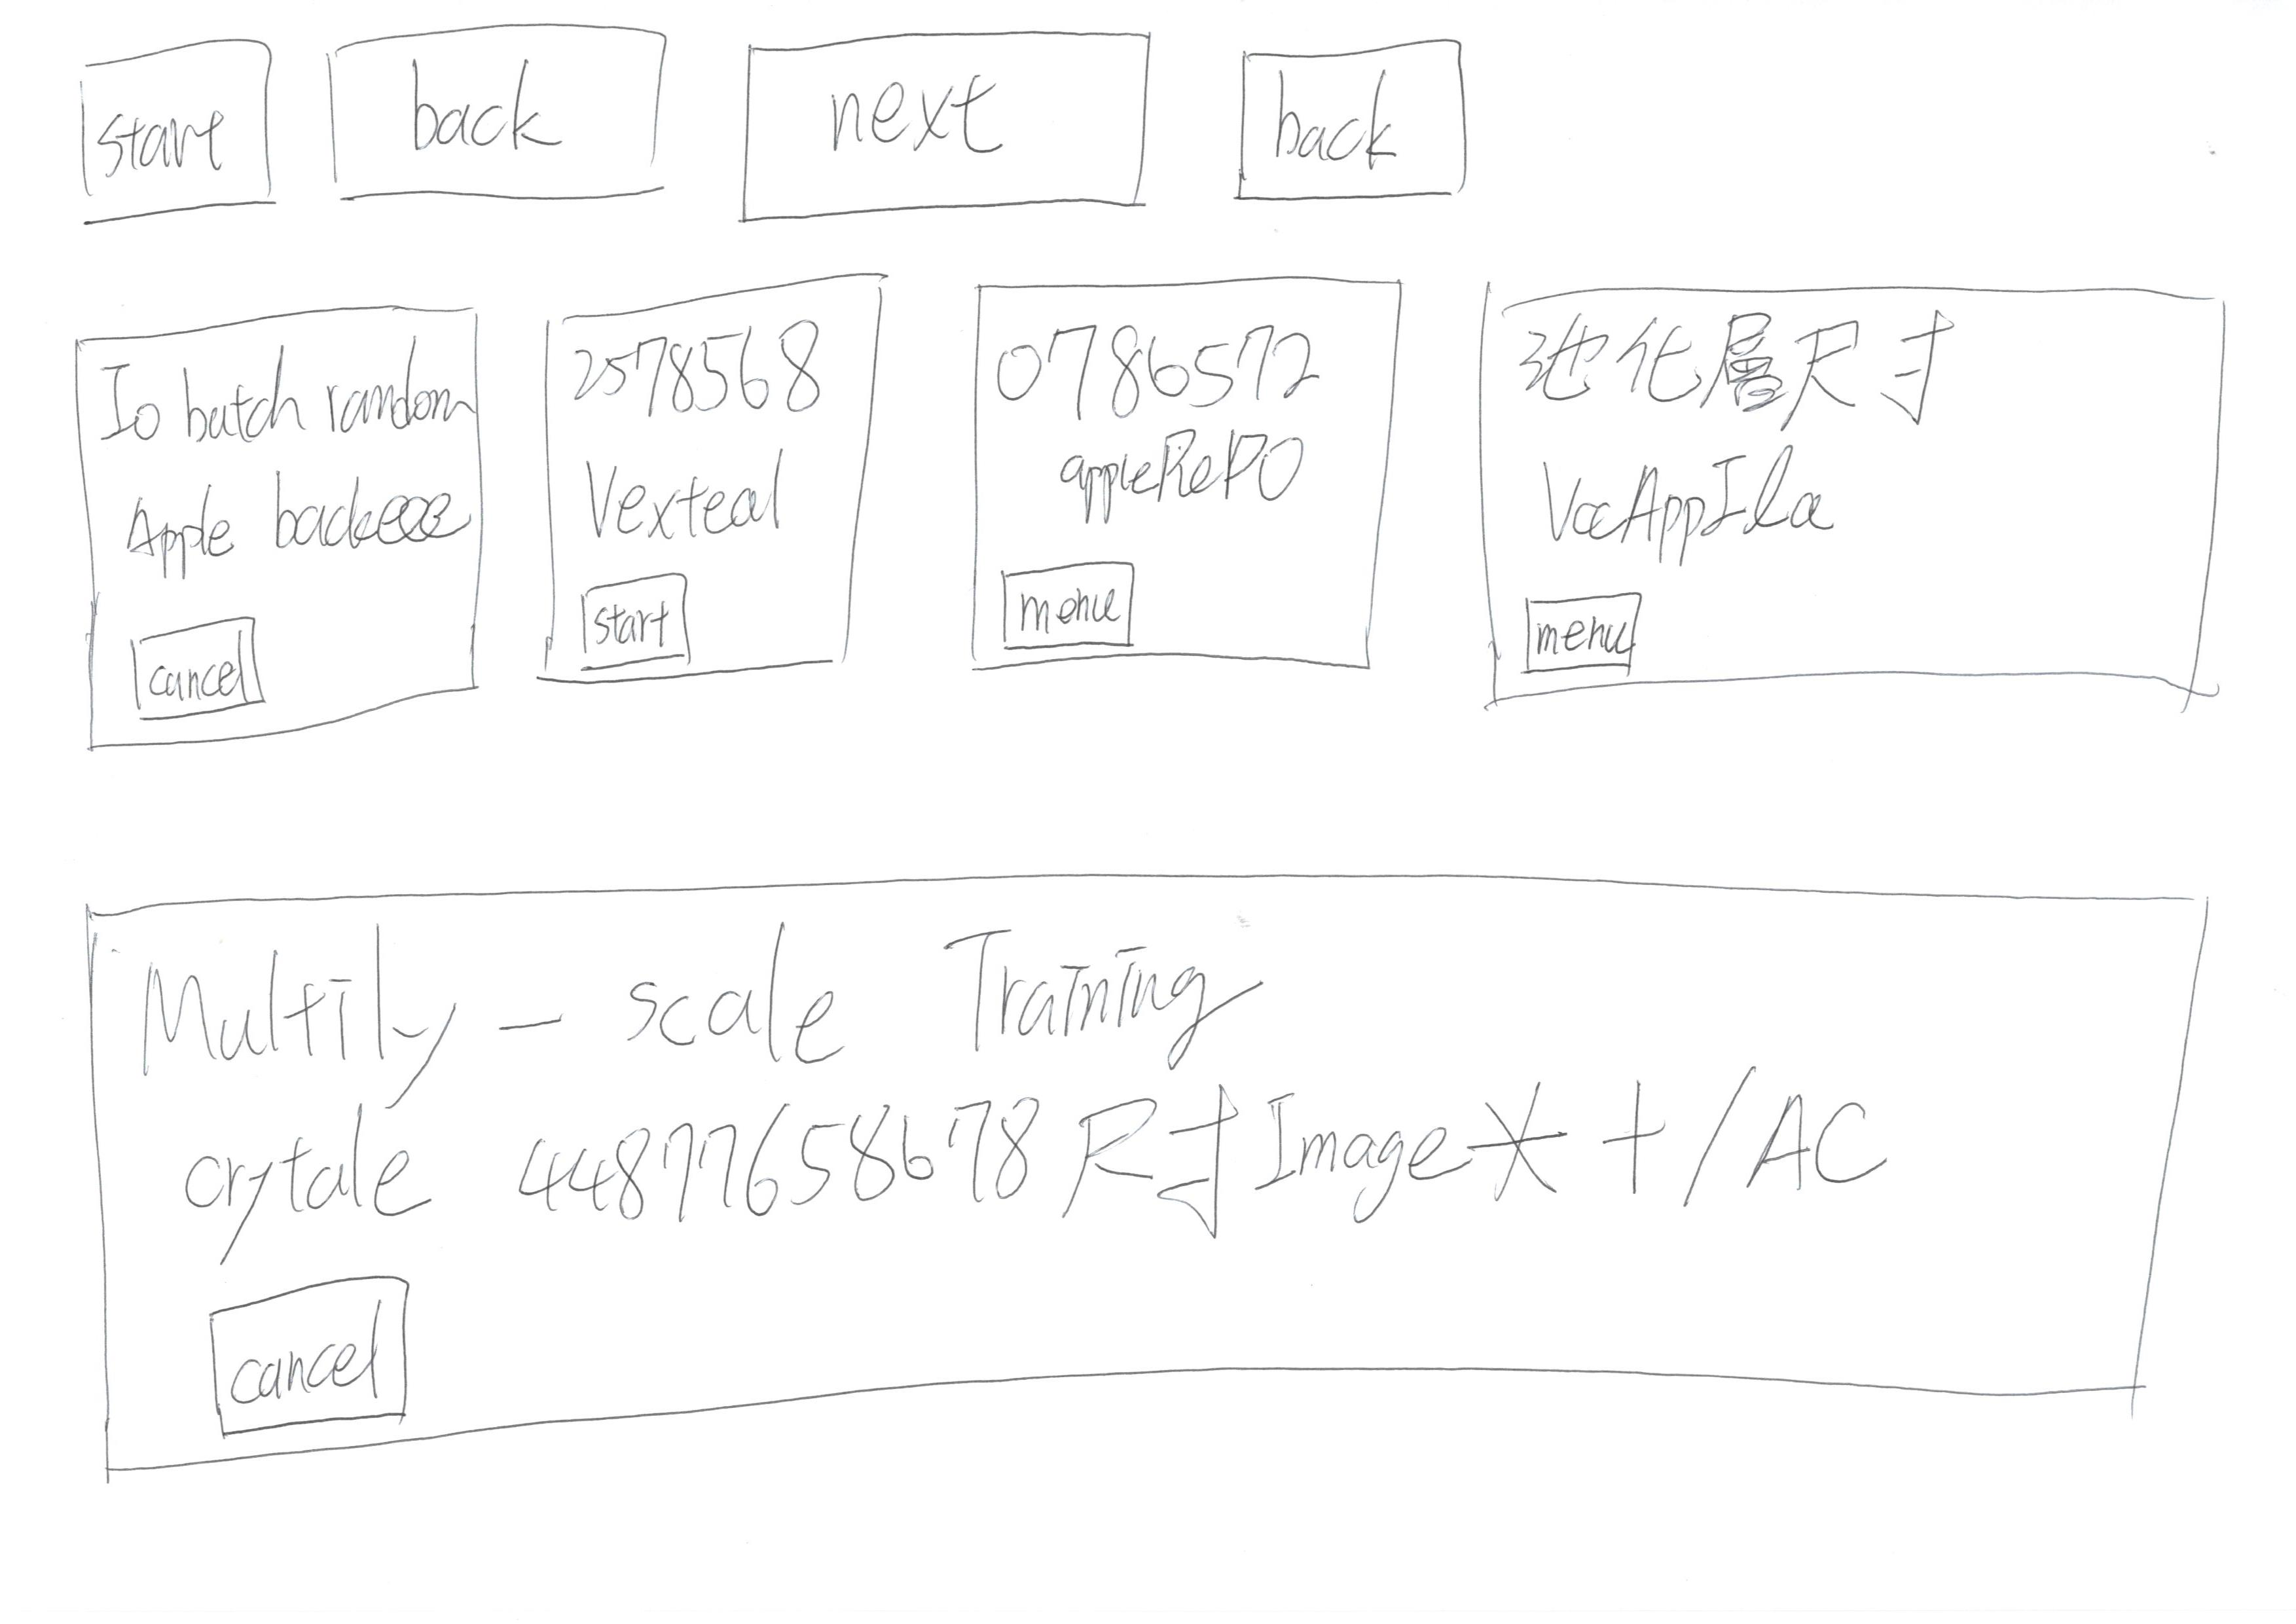back: (308, 11, 701, 236), (1215, 12, 1484, 236)
cancel: (179, 1267, 438, 1443), (107, 613, 281, 736)
menu: (988, 552, 1174, 671), (1510, 578, 1649, 692)
next: (708, 14, 1190, 232)
quadruple: (1440, 257, 2296, 758), (928, 251, 1468, 733), (44, 279, 522, 770), (524, 271, 925, 766)
row: (40, 833, 2296, 1541), (40, 244, 2296, 810), (23, 0, 2278, 253)
single: (47, 861, 2261, 1483)
small-title: (1521, 320, 1953, 436)
start: (51, 40, 306, 232), (570, 569, 707, 670)
text: (181, 1100, 1895, 1236), (120, 928, 1276, 1081), (1002, 306, 1371, 541), (102, 350, 454, 580), (570, 311, 842, 569), (1554, 464, 1925, 554)
